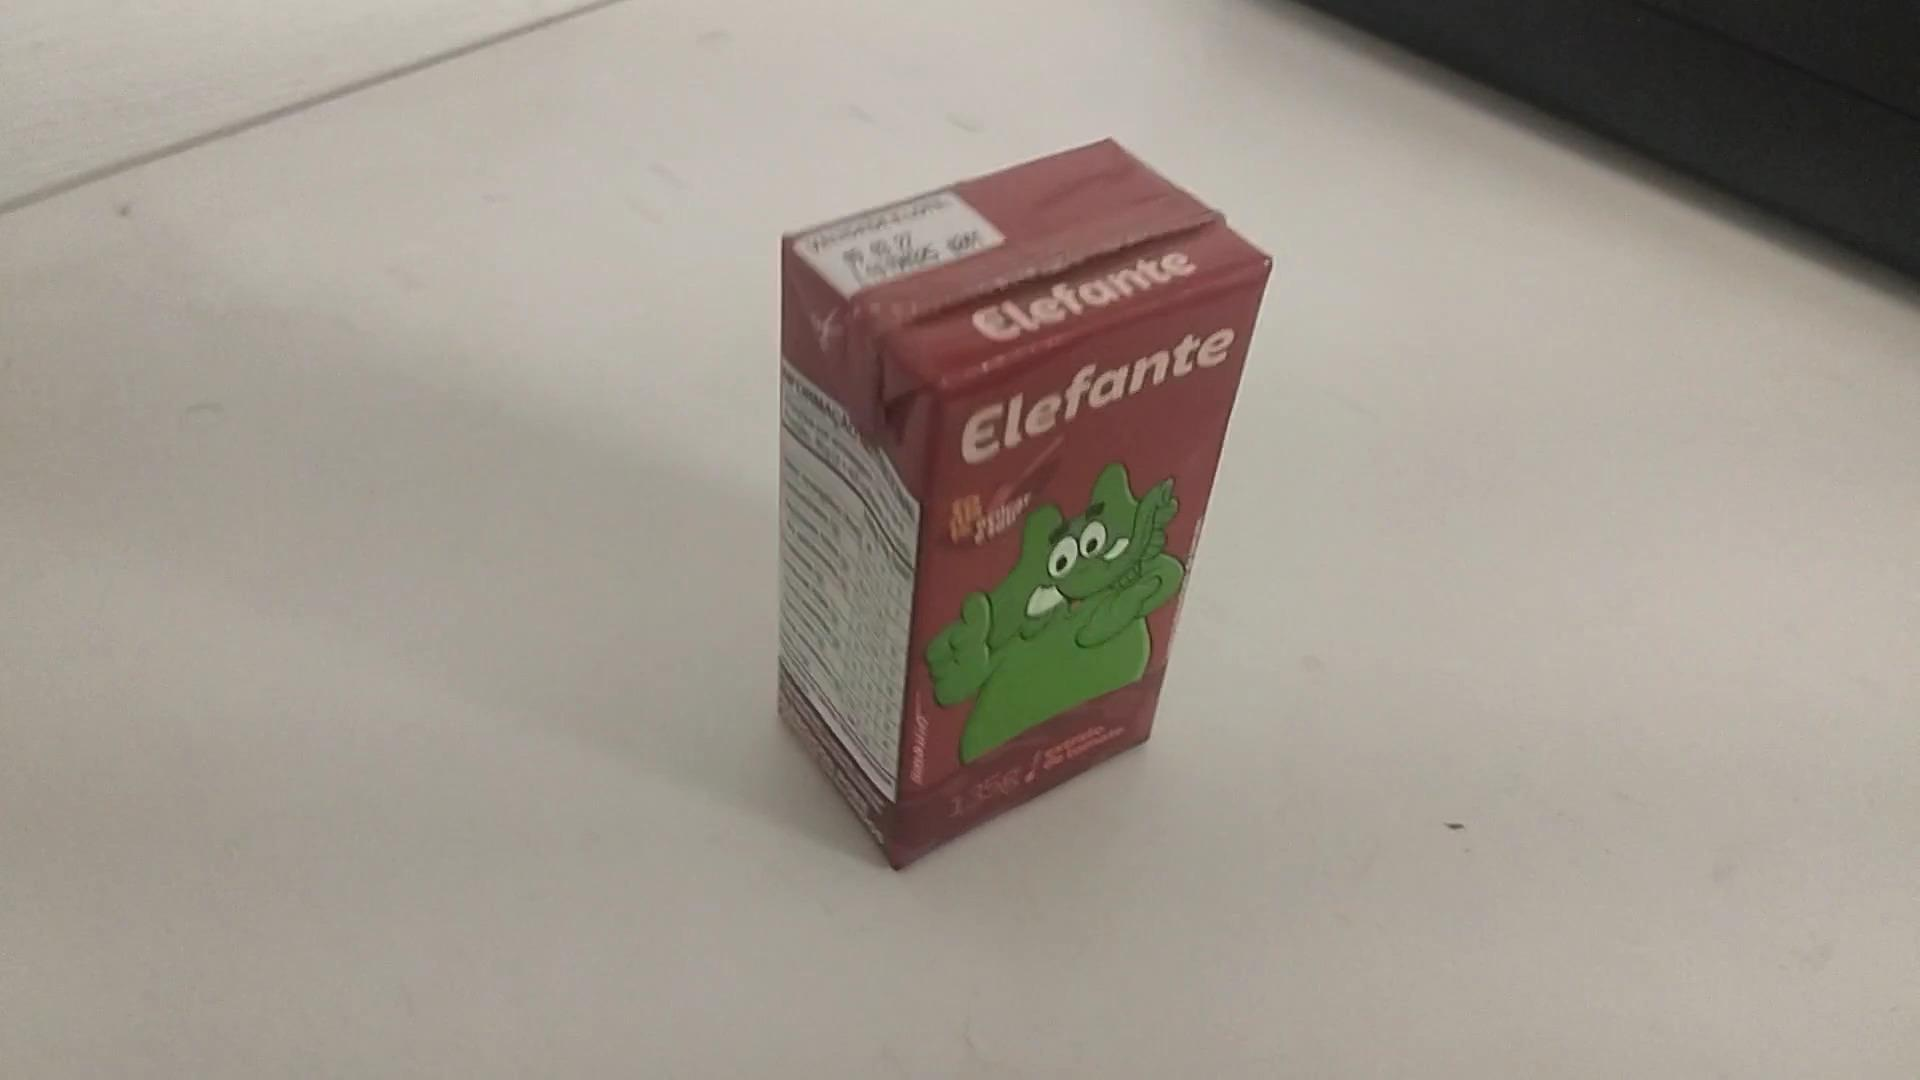tomate: (777, 141, 1270, 874)
